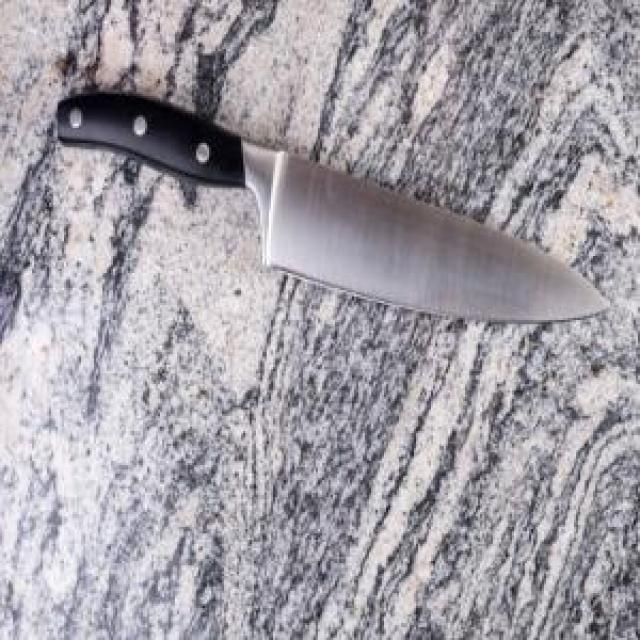knife: (56, 92, 614, 320)
